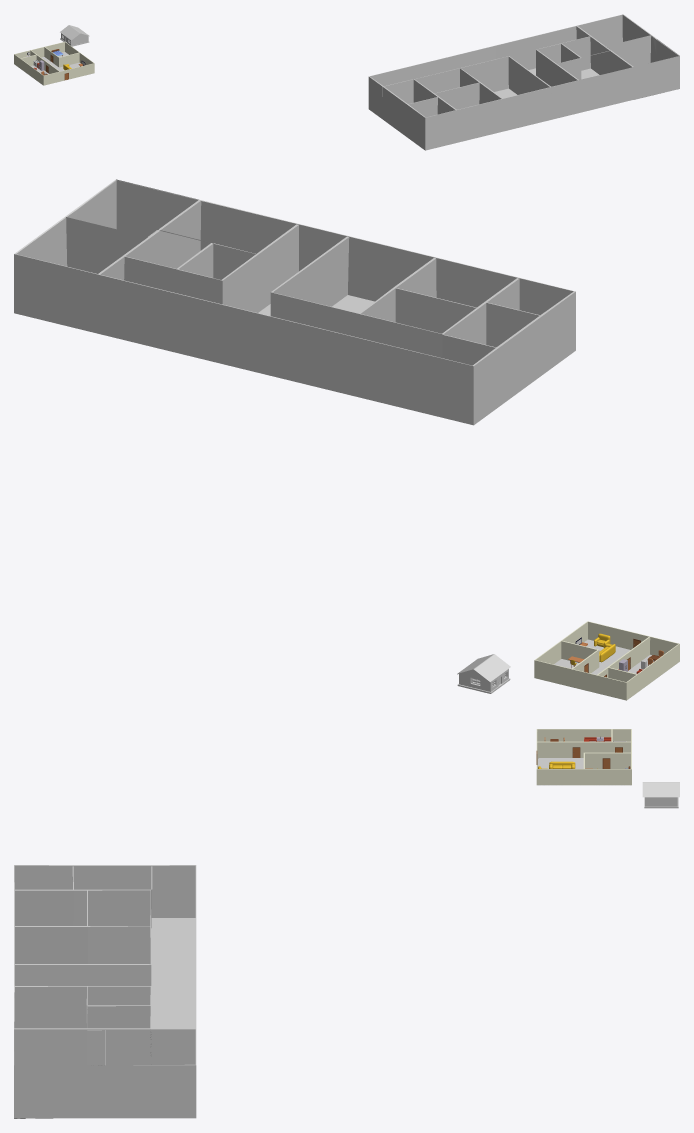
The model's file is stage_1_rumah.fbx.
3 renders of one model, top to bottom at view 1: azimuth 30°, elevation 25°; view 2: azimuth 150°, elevation 25°; view 3: azimuth 270°, elevation 25°, orthographic. The views are drawn at different scales.
Visible parts, largest first — view 1: Plane.006, Cube, roof; view 2: Plane.006, Cube; view 3: Plane.006, Cube, Plane.001, Plane.002, roof.
Boxes of the visible parts, x1=… form: Plane.006: x1=368, y1=14, x2=679, y2=150; Cube: x1=14, y1=42, x2=94, y2=85; roof: x1=60, y1=25, x2=89, y2=40; Plane.006: x1=14, y1=179, x2=575, y2=425; Cube: x1=534, y1=621, x2=679, y2=700; Plane.006: x1=14, y1=865, x2=196, y2=1118; Cube: x1=536, y1=729, x2=631, y2=785; Plane.001: x1=537, y1=741, x2=630, y2=757; Plane.002: x1=584, y1=752, x2=630, y2=768; roof: x1=642, y1=782, x2=679, y2=797.
Size of the model in its own units: 53974 by 3633 by 40681.
